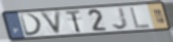2: (87, 8, 109, 32)
D: (18, 13, 44, 37)
J: (111, 6, 130, 31)
L: (128, 6, 152, 30)
T: (64, 9, 83, 34)
V: (39, 10, 63, 37)
